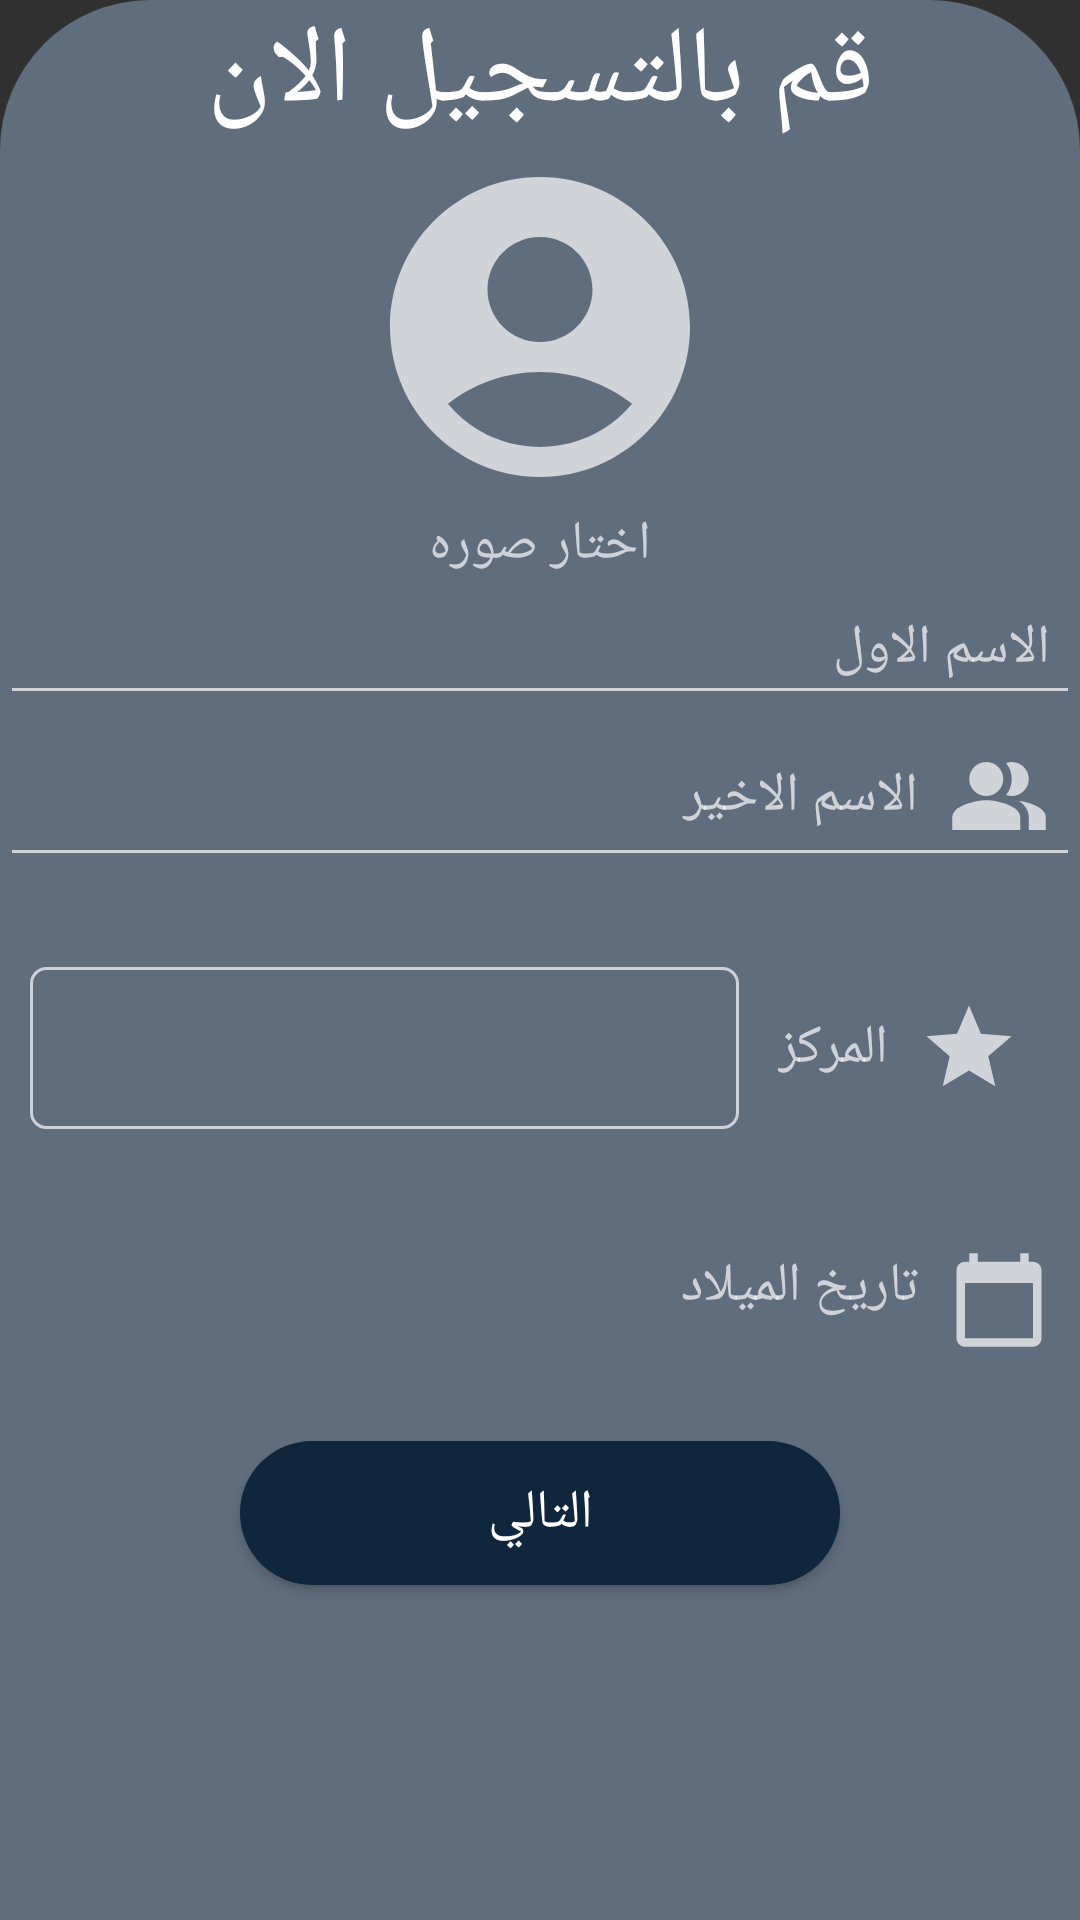

Icons on this 1080×1920 Android screen, each with its box as (x1, y1, x2, y2):
account circle: (390, 177, 690, 477)
